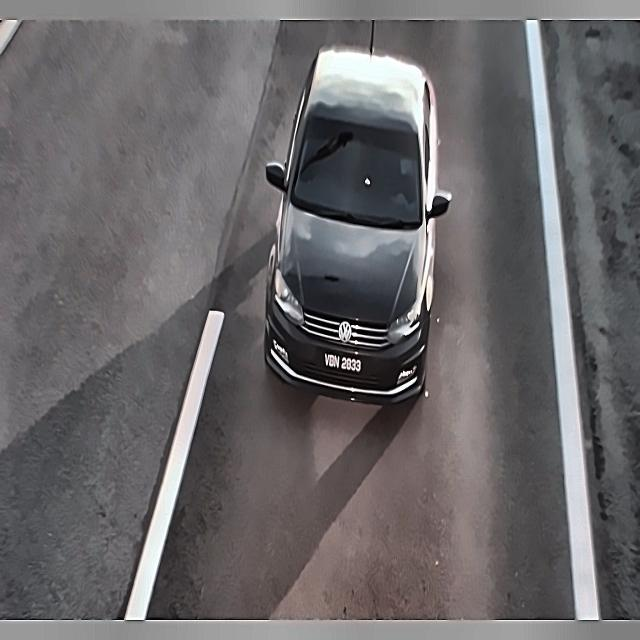car: (317, 346, 369, 381)
